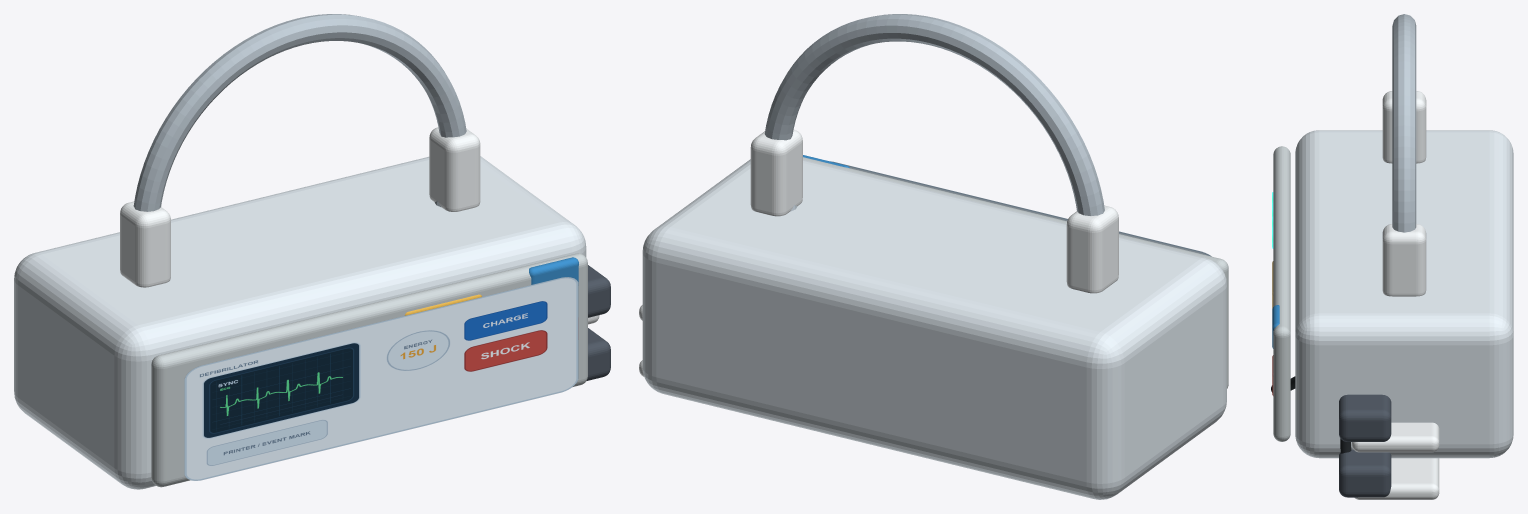
File: defibrillator.glb
3 views of the same model, side by side, from view 1: azimuth 30°, elevation 25°; view 2: azimuth 150°, elevation 25°; view 3: azimuth 270°, elevation 25° (orthographic). The views are drawn at different scales.
Parts seen in each view (by area): view 1: defib body, photo-real defibrillator front, front rubber bumper, integrated handle, handle left post, handle right post, paddle right, paddle left, charge key; view 2: defib body, integrated handle, handle left post, handle right post, front rubber bumper, photo-real defibrillator front; view 3: defib body, integrated handle, front rubber bumper, handle right post, paddle left, paddle right, paddle dock right, paddle dock left, handle left post.
Part boxes in pixels (x1,y1,x2,y2): defib body: (14,156,586,489); photo-real defibrillator front: (184,277,578,480); front rubber bumper: (151,253,587,487); integrated handle: (133,14,466,211); handle left post: (120,201,170,287); handle right post: (429,127,480,211); paddle right: (586,328,610,380); paddle left: (588,265,610,317); charge key: (529,257,578,284); defib body: (642,159,1226,499); integrated handle: (764,14,1104,215); handle left post: (1066,205,1118,293); handle right post: (750,129,802,216); front rubber bumper: (803,157,1228,388); photo-real defibrillator front: (830,161,1211,256); defib body: (1295,130,1513,458); integrated handle: (1392,14,1416,232); front rubber bumper: (1273,146,1290,441); handle right post: (1382,224,1426,296); paddle left: (1339,394,1391,441); paddle right: (1339,449,1391,497); paddle dock right: (1354,458,1439,499); paddle dock left: (1352,422,1439,452); handle left post: (1382,91,1426,163).
Size of the model in its own units: 2.38 by 1.8 by 1.16.
13 materials, 1 textured.
